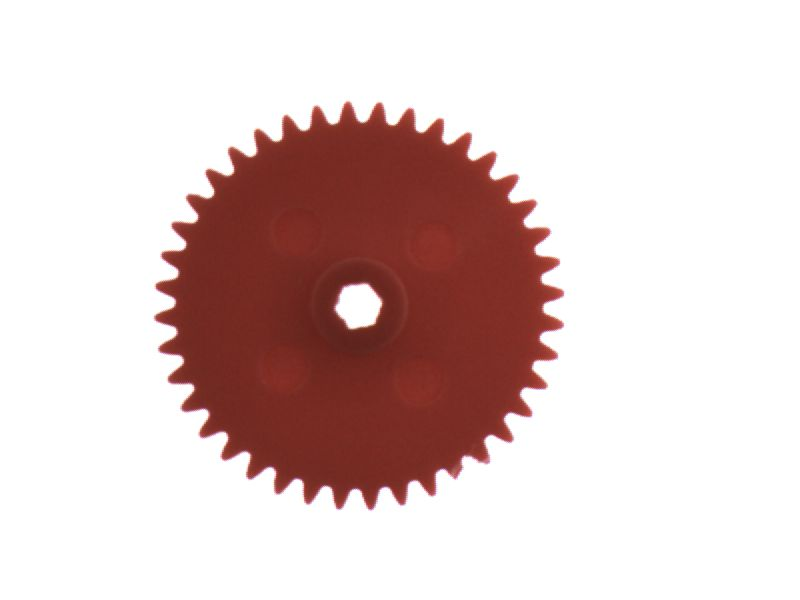defect_break: (437, 450, 478, 504)
